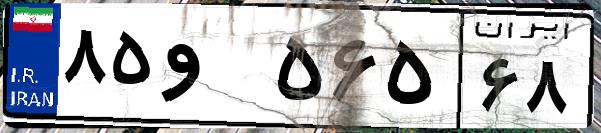5: (270, 28, 330, 110), (385, 28, 445, 110), (110, 28, 158, 98)
6: (330, 28, 385, 110), (475, 38, 525, 113)
8: (57, 26, 110, 100), (525, 38, 570, 115)
و: (158, 20, 270, 120)
